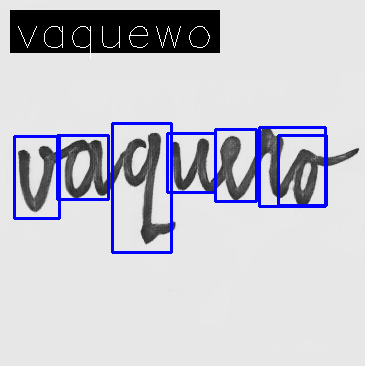a: (62, 138, 109, 200)
e: (215, 131, 248, 203)
o: (290, 146, 320, 209)
q: (120, 130, 163, 245)
r: (251, 123, 287, 200)
u: (167, 137, 210, 193)
v: (15, 144, 58, 214)
